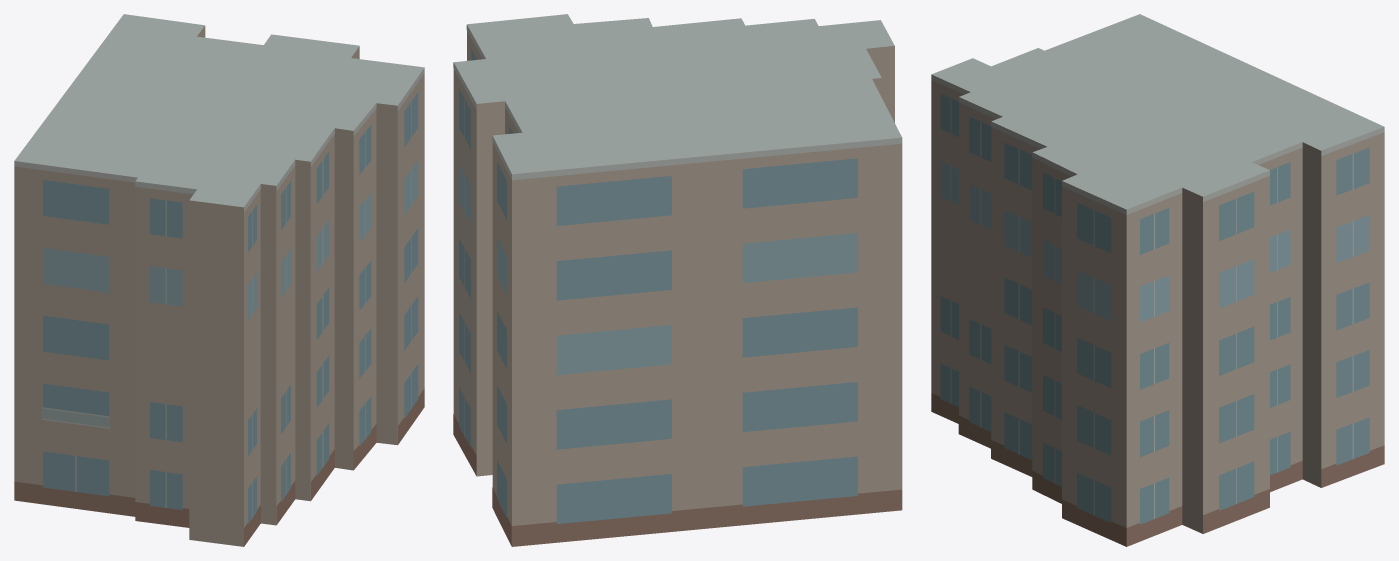
Rendered from survey-upis-33004213.glb.
3 views of the same model, side by side, from view 1: azimuth 30°, elevation 25°; view 2: azimuth 150°, elevation 25°; view 3: azimuth 270°, elevation 25° (orthographic). The views are drawn at different scales.
Parts seen in each view (by area): view 1: survey-upis-33004213.tmp; view 2: survey-upis-33004213.tmp; view 3: survey-upis-33004213.tmp.
Part boxes in pixels (x1,y1,x2,y2): survey-upis-33004213.tmp: (14, 14, 424, 546); survey-upis-33004213.tmp: (453, 14, 902, 546); survey-upis-33004213.tmp: (931, 14, 1384, 546).
Size of the model in its own units: 18.98 by 15.25 by 18.58.
